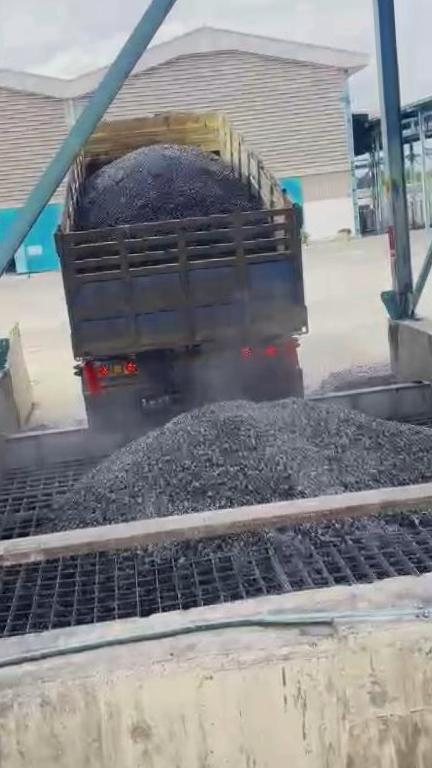gravel: (43, 399, 432, 528), (122, 510, 432, 566), (77, 144, 259, 229), (318, 363, 395, 392)
